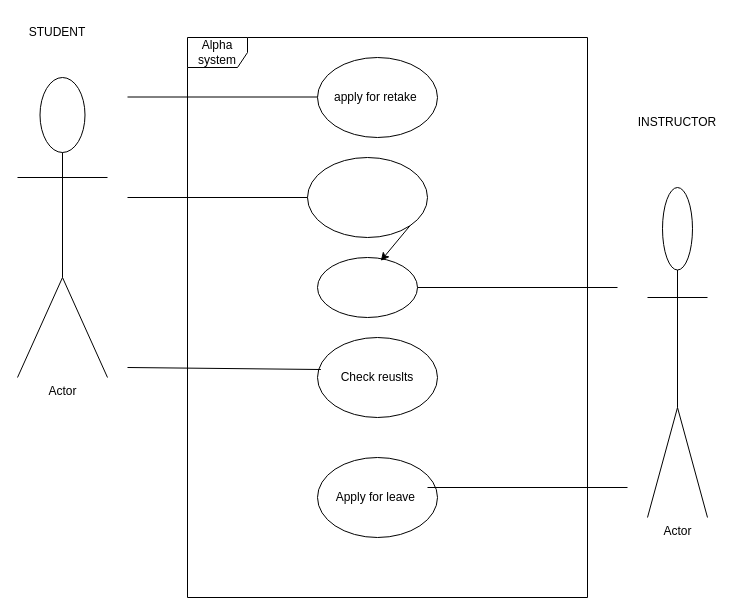
Some shapes in this 734 by 615 pixel diagram are drawn without their labels. The shapes that lost their labels are listed below. From the top down, each one's centre as x and y in pixels, then its label:
point 367,197: print financial statement
point 367,287: Upload results
